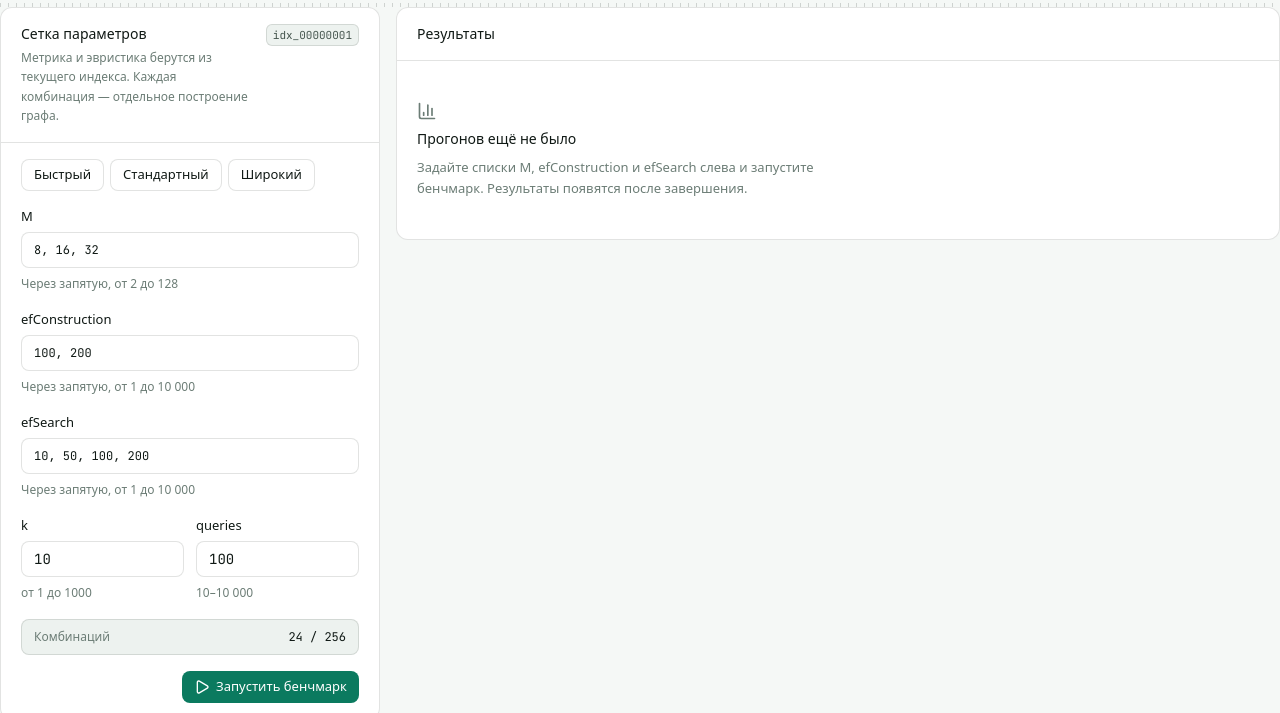
it: BenchmarkPage › runs the benchmark and renders charts, summary and table
(page scrolled)
Step 1. Click the button "Запустить бенчмарк" → click(270, 687), box top-left (182, 671), bottom-right (359, 703)
(page scrolled)
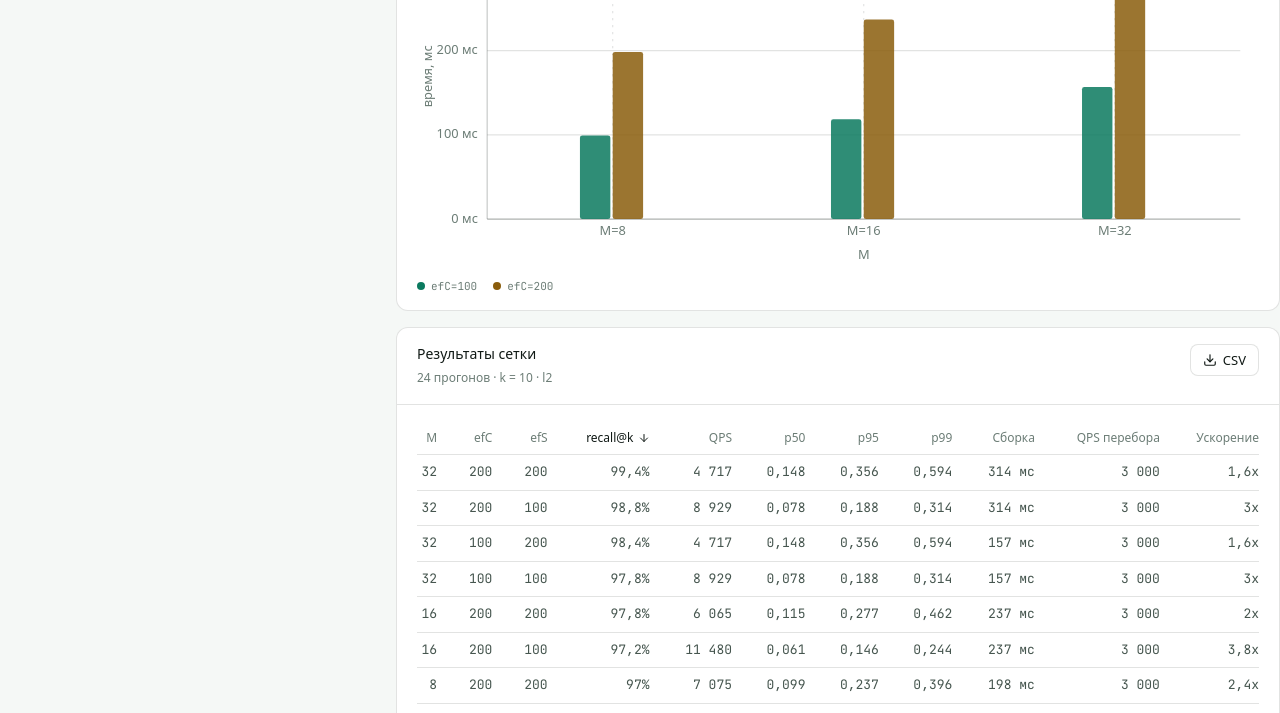
Result: the heading "Результаты сетки" is shown at top-left (417, 344), bottom-right (552, 364)
Result: the button "CSV" is shown at top-left (1190, 344), bottom-right (1259, 376)
